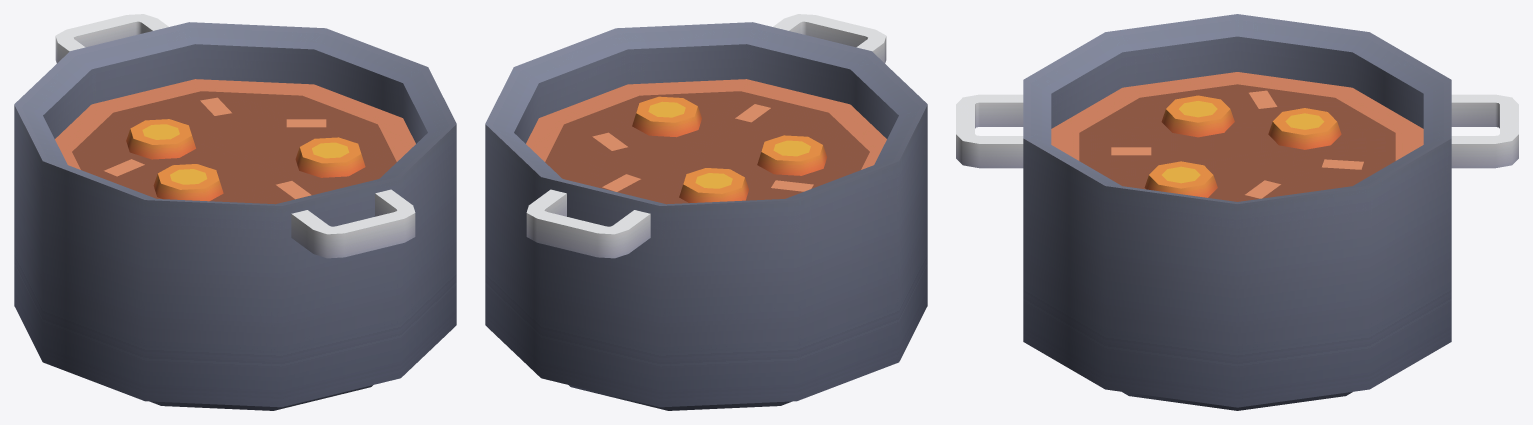
Rendered from pot-stew.glb.
The picture shows the model from 3 angles, left to right: view 1: azimuth 30°, elevation 25°; view 2: azimuth 150°, elevation 25°; view 3: azimuth 270°, elevation 25°; orthographic projection.
Parts seen in each view (by area): view 1: pot-stew; view 2: pot-stew; view 3: pot-stew.
Boxes of the visible parts, left/top/right/bottom form: pot-stew: left=14, top=14, right=456, bottom=410; pot-stew: left=485, top=14, right=927, bottom=410; pot-stew: left=956, top=14, right=1518, bottom=410.
Bounding box in the file's own units: 0.6574 × 0.3608 × 0.8221.
Materials: 1 (1 with a texture image).
